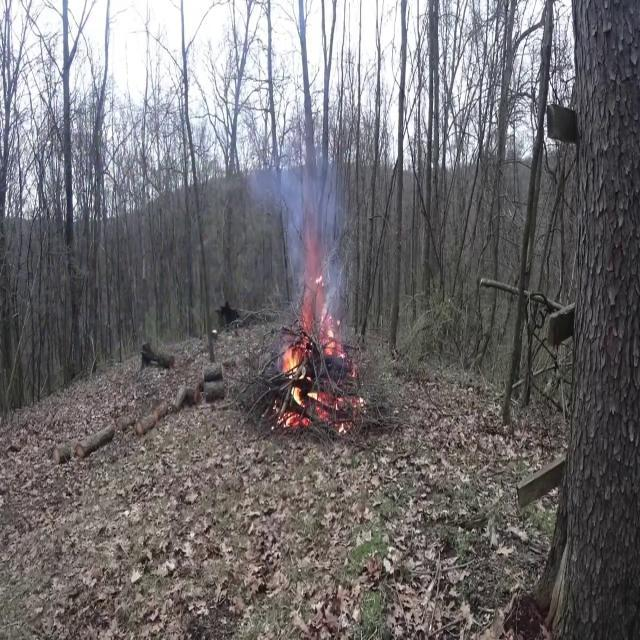Fire: (272, 336, 320, 428), (277, 335, 311, 421)
Smoke: (266, 121, 348, 342)
